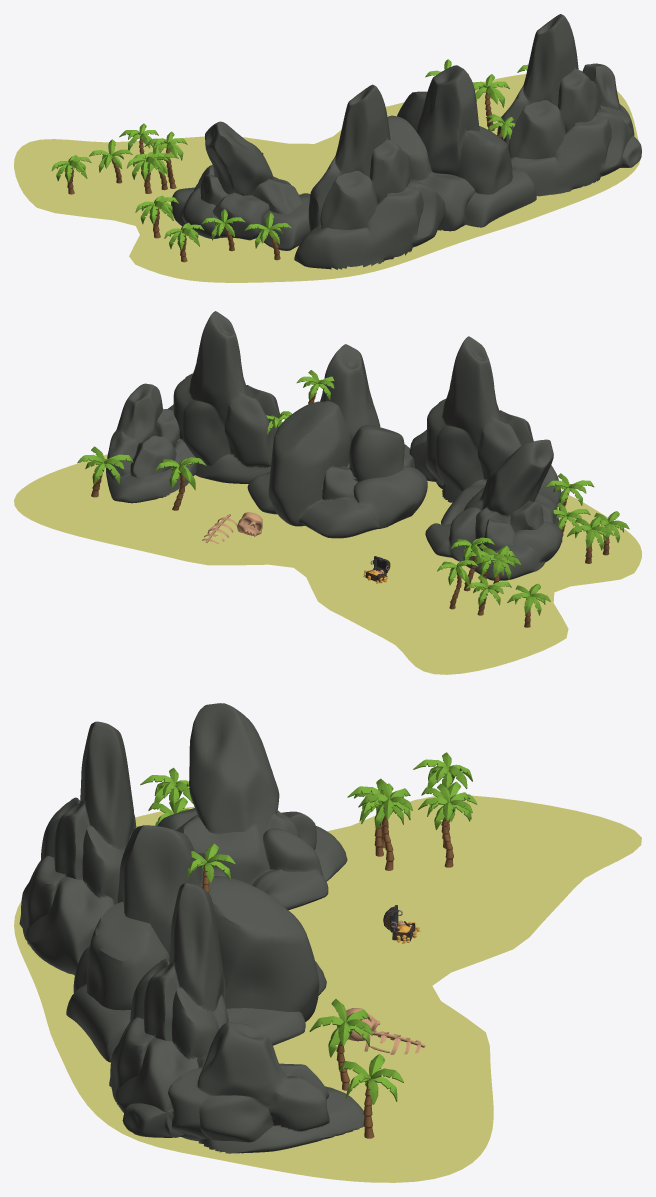
File: Gameboard-5.glb
3 renders of one model, top to bottom at view 1: azimuth 30°, elevation 25°; view 2: azimuth 150°, elevation 25°; view 3: azimuth 270°, elevation 25°, orthographic. The views are drawn at different scales.
Visible parts, largest first — view 1: Circle, Environment_Cliff3, Environment_Cliff3.001, Environment_Cliff2, Environment_Cliff4, Environment_Cliff3.002, Environment_PalmTree_3.004, Environment_PalmTree_1.006, Environment_PalmTree_2.004, Environment_PalmTree_1.002, Environment_PalmTree_3.002, Environment_PalmTree_3.003 (+6 smaller); view 2: Circle, Environment_Cliff2, Environment_Cliff3.001, Environment_Cliff3, Environment_Cliff4, Environment_Cliff3.002, Environment_PalmTree_2.006, Environment_PalmTree_1.006, Environment_PalmTree_3.004, Environment_PalmTree_3, Environment_PalmTree_3.002, Environment_PalmTree_2.004 (+5 smaller); view 3: Circle, Environment_Cliff2, Environment_Cliff4, Environment_Cliff3.002, Environment_Cliff3, Environment_Cliff3.001, Environment_PalmTree_1.006, Environment_PalmTree_2.006, Environment_PalmTree_1.002, Environment_PalmTree_1, Environment_PalmTree_3, Environment_PalmTree_3.003 (+2 smaller).
Part boxes in pixels (bbox=[...]): Circle: bbox=[14, 74, 640, 282]; Environment_Cliff3: bbox=[294, 84, 445, 269]; Environment_Cliff3.001: bbox=[497, 14, 633, 196]; Environment_Cliff2: bbox=[387, 65, 536, 231]; Environment_Cliff4: bbox=[171, 121, 310, 250]; Environment_Cliff3.002: bbox=[582, 63, 641, 167]; Environment_PalmTree_3.004: bbox=[135, 195, 178, 238]; Environment_PalmTree_1.006: bbox=[472, 74, 509, 131]; Environment_PalmTree_2.004: bbox=[244, 212, 291, 260]; Environment_PalmTree_1.002: bbox=[144, 131, 187, 188]; Environment_PalmTree_3.002: bbox=[126, 151, 169, 193]; Environment_PalmTree_3.003: bbox=[164, 222, 204, 262]; Circle: bbox=[14, 454, 641, 674]; Environment_Cliff2: bbox=[247, 344, 427, 538]; Environment_Cliff3.001: bbox=[168, 311, 281, 483]; Environment_Cliff3: bbox=[409, 336, 561, 506]; Environment_Cliff4: bbox=[425, 439, 562, 580]; Environment_Cliff3.002: bbox=[106, 383, 196, 503]; Environment_PalmTree_2.006: bbox=[77, 446, 133, 497]; Environment_PalmTree_1.006: bbox=[155, 457, 206, 510]; Environment_PalmTree_3.004: bbox=[567, 516, 613, 563]; Environment_PalmTree_3: bbox=[507, 583, 550, 627]; Environment_PalmTree_3.002: bbox=[474, 546, 521, 593]; Environment_PalmTree_2.004: bbox=[546, 473, 594, 516]; Circle: bbox=[14, 795, 641, 1182]; Environment_Cliff2: bbox=[66, 825, 326, 1062]; Environment_Cliff4: bbox=[157, 703, 347, 909]; Environment_Cliff3.002: bbox=[122, 1022, 364, 1153]; Environment_Cliff3: bbox=[19, 721, 135, 975]; Environment_Cliff3.001: bbox=[109, 883, 228, 1137]; Environment_PalmTree_1.006: bbox=[309, 999, 372, 1090]; Environment_PalmTree_2.006: bbox=[339, 1054, 403, 1138]; Environment_PalmTree_1.002: bbox=[358, 779, 412, 870]; Environment_PalmTree_1: bbox=[418, 783, 472, 867]; Environment_PalmTree_3: bbox=[413, 752, 472, 788]; Environment_PalmTree_3.003: bbox=[140, 767, 193, 812].
Size of what is drawn, in the model's own units: 42.31 by 12.08 by 28.9.
Materials: 4 (3 with a texture image).
